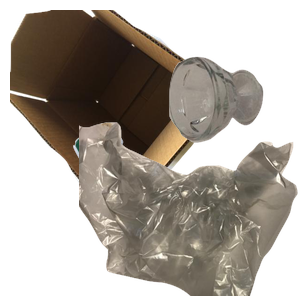cardboard: (10, 10, 218, 190)
glass: (166, 54, 300, 189)
plastic: (71, 120, 300, 300)
trash: (79, 120, 300, 300)
